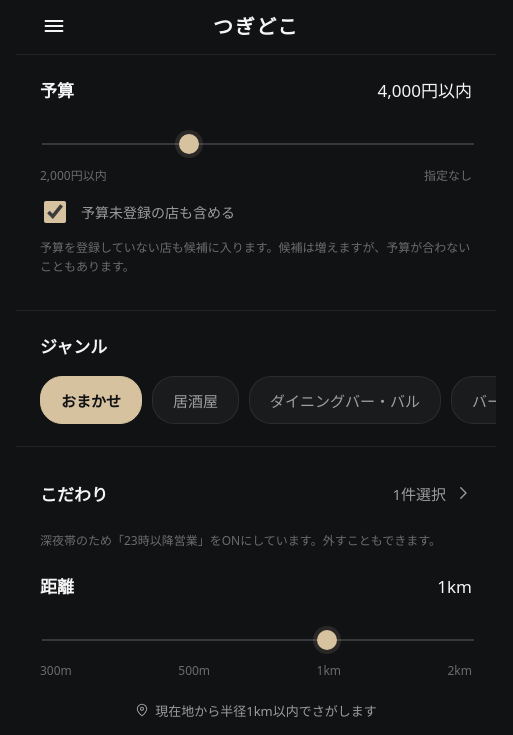
Test case: トップ画面 › 深夜帯は「23時以降営業」がONになり、その旨を表示する
The width and height of the screenshot is (513, 735).
Expected: the text "深夜帯のため「23時以降営業」をONにしています。外すこともできます。" is shown, 40,531 -> 472,551
Click the text "こだわり": {"x": 74, "y": 493} 40,481 -> 108,506
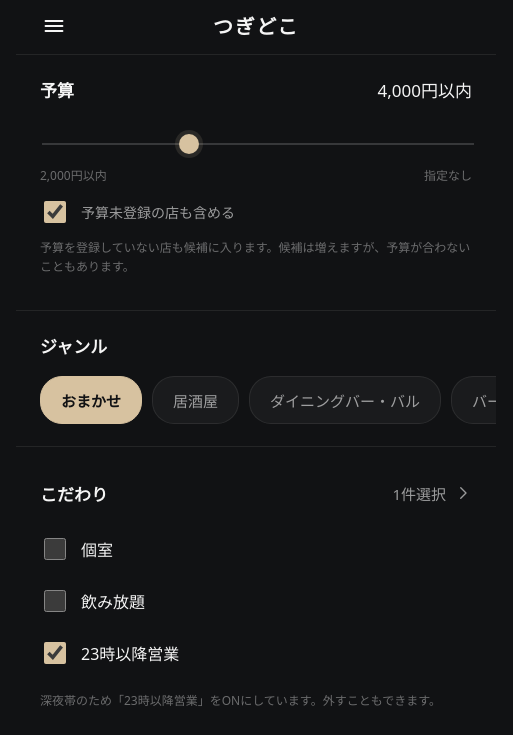
Expected: the checkbox labelled "23時以降営業" is checked, 44,642 -> 66,664
